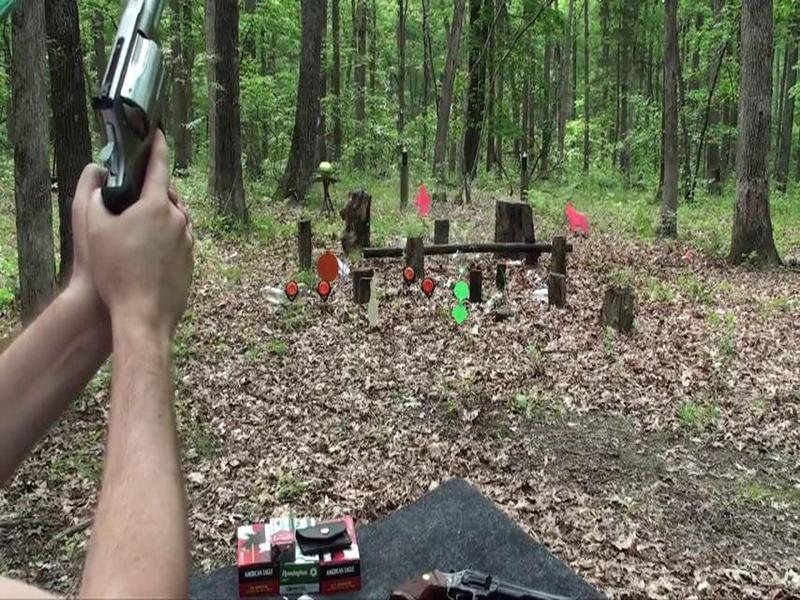Revolver: (359, 555, 605, 600)
